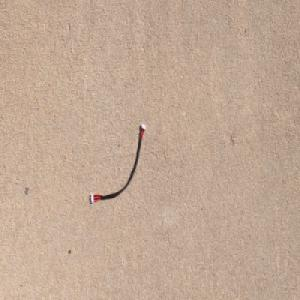Wire: (90, 122, 147, 205)
